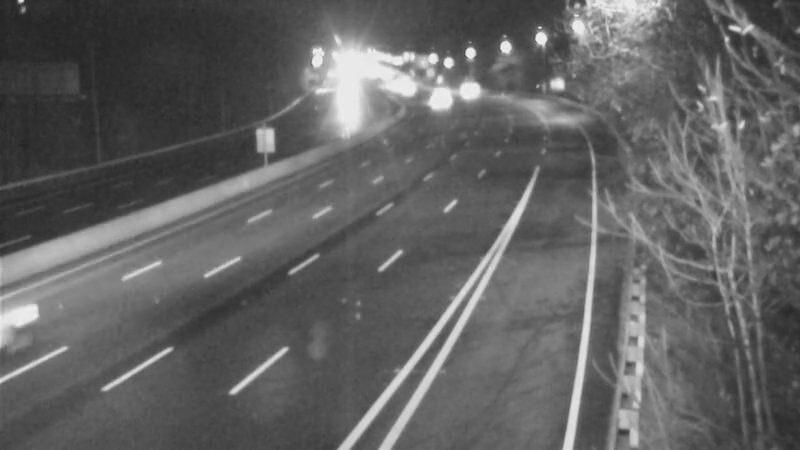vehicle: (443, 64, 493, 114), (419, 68, 469, 118), (413, 78, 463, 128), (315, 77, 365, 127)
